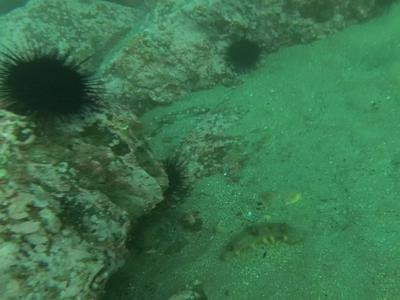holothurian: (218, 221, 292, 260)
urchin: (3, 42, 104, 116), (226, 38, 259, 71)
